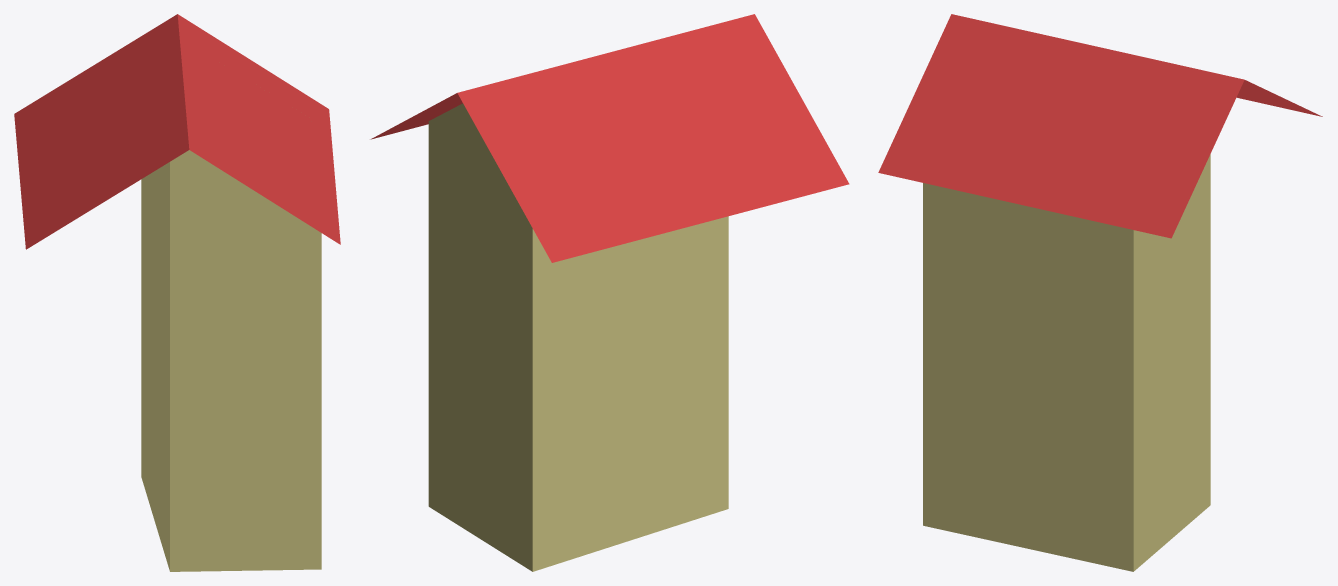
3 renders of one model, left to right at view 1: azimuth 30°, elevation 25°; view 2: azimuth 150°, elevation 25°; view 3: azimuth 270°, elevation 25°, orthographic. The views are drawn at different scales.
Size of the model in its own units: 11.25 by 11.33 by 12.68.
